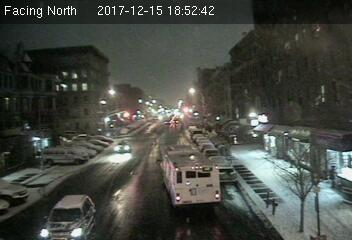bus: (160, 142, 222, 208)
car: (34, 193, 96, 240), (112, 140, 132, 153)
